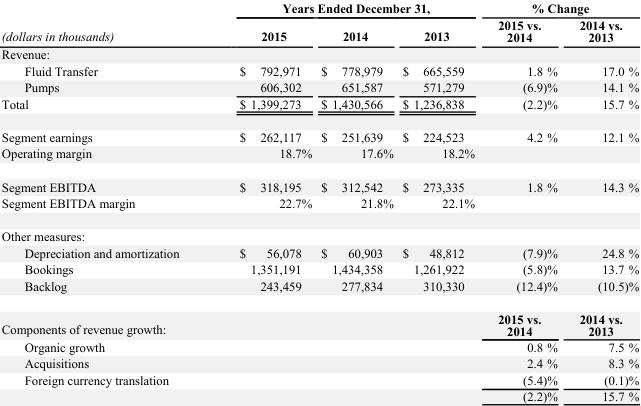table: (0, 0, 638, 403)
table column: (0, 0, 208, 403), (208, 0, 315, 403), (397, 0, 485, 403), (315, 0, 397, 403), (485, 0, 567, 403), (567, 0, 638, 403)
table column header: (0, 0, 638, 45)
table projected row header: (0, 219, 638, 244), (0, 45, 638, 62)
table row: (0, 301, 638, 338), (0, 16, 638, 45), (0, 95, 638, 120), (0, 144, 638, 169), (0, 169, 638, 194), (0, 194, 638, 219), (0, 219, 638, 244), (0, 120, 638, 144), (0, 277, 638, 301), (0, 45, 638, 62), (0, 78, 638, 95), (0, 260, 638, 277), (0, 354, 638, 371), (0, 0, 638, 16), (0, 62, 638, 78), (0, 244, 638, 260), (0, 338, 638, 354), (0, 371, 638, 387), (0, 387, 638, 403)
table spanning cell: (0, 0, 208, 45), (208, 0, 485, 16), (485, 0, 638, 16)
